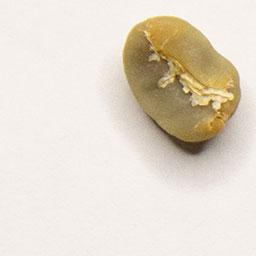premium: (119, 10, 245, 148)
